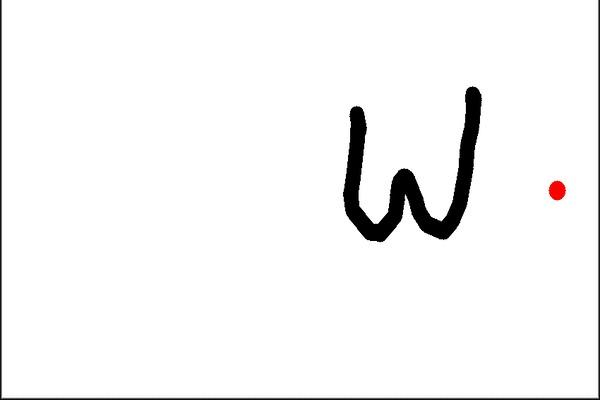w: (333, 80, 487, 246)
